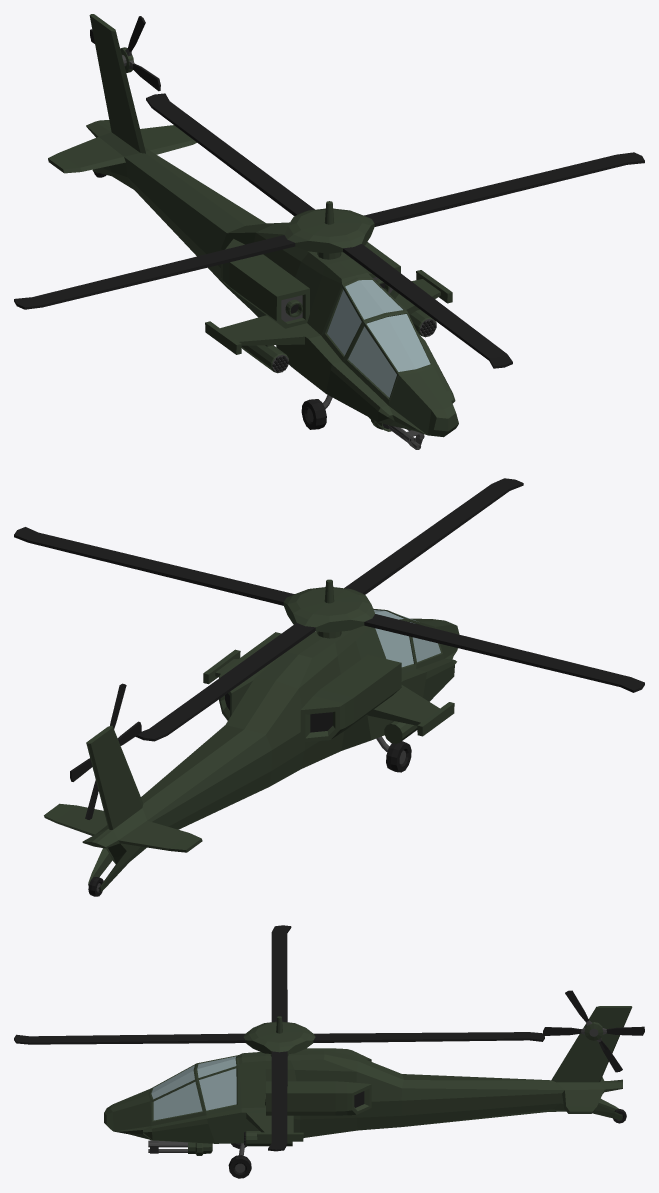
File: Attack Helicopter.fbx
3 views of the same model, one above another, from view 1: azimuth 30°, elevation 25°; view 2: azimuth 150°, elevation 25°; view 3: azimuth 270°, elevation 25° (orthographic). The views are drawn at different scales.
Parts seen in each view (by area): view 1: Hull, MainProp, BackProp; view 2: Hull, MainProp, BackProp; view 3: Hull, MainProp, BackProp, GunBarrel.
Boxes of the visible parts, x1,y1,x2,y2 form: Hull: (48,14,458,437); MainProp: (14,93,644,368); BackProp: (90,16,160,91); Hull: (44,608,459,896); MainProp: (14,478,644,741); BackProp: (70,683,141,819); Hull: (104,1006,632,1178); MainProp: (14,925,544,1151); BackProp: (543,990,644,1072); GunBarrel: (148,1140,187,1153).
Bounding box in the file's own units: 249 × 90.39 × 296.
